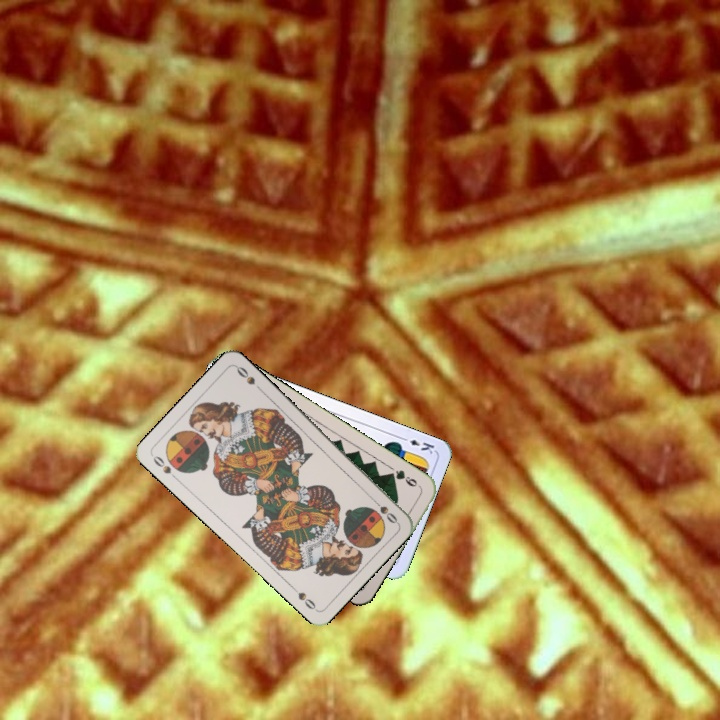EK: (397, 433, 437, 457)
G9: (385, 466, 423, 491)
SO: (367, 494, 400, 526), (149, 451, 181, 483)
